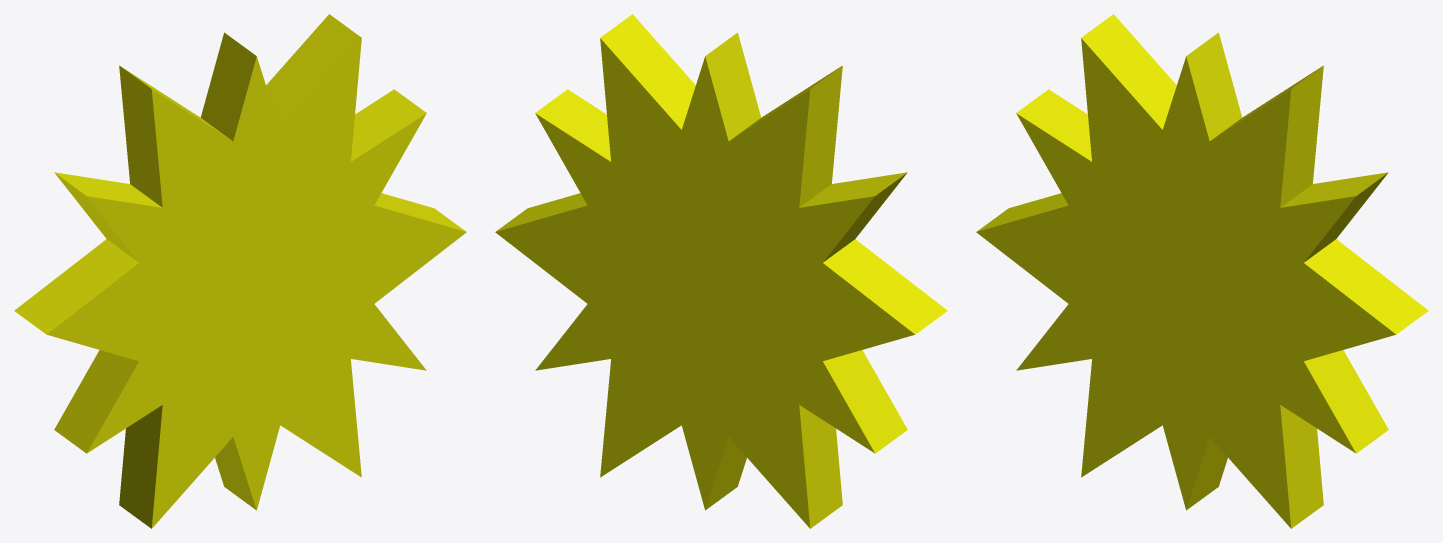
Rendered from BigStar.fbx.
3 views of the same model, side by side, from view 1: azimuth 30°, elevation 25°; view 2: azimuth 150°, elevation 25°; view 3: azimuth 330°, elevation 25° (orthographic).
Parts seen in each view (by area): view 1: Big Star; view 2: Big Star; view 3: Big Star.
Boxes of the visible parts, bbox=[...] form: Big Star: bbox=[14, 14, 466, 528]; Big Star: bbox=[495, 14, 947, 528]; Big Star: bbox=[976, 14, 1428, 528].
Size of the model in its own units: 145 by 150 by 19.44.
